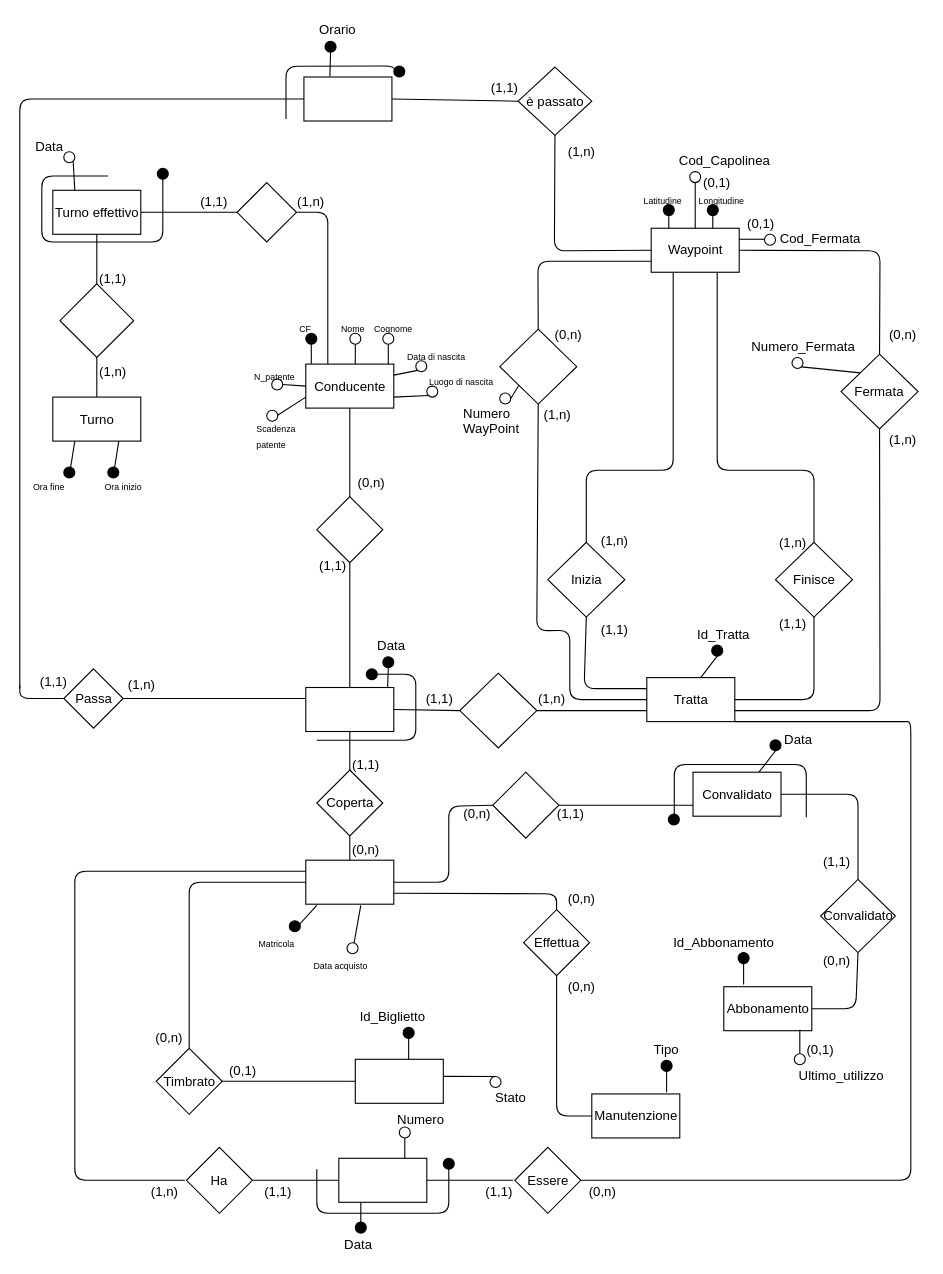
The diagram is 943 pixels wide and 1274 high, and some of its shapes have lost their labels. The box of each missing label's shape, as (x1, y1, x2, y2) in pixels:
Biglietto: (354, 1058, 443, 1103)
Composto: (59, 283, 134, 358)
In programma: (338, 1157, 427, 1202)
Lavora: (236, 182, 296, 242)
Occorrenza: (459, 672, 537, 748)
Occupato: (316, 496, 383, 563)
Passato: (303, 76, 392, 121)
Presente: (499, 328, 577, 404)
Sopra: (492, 771, 559, 838)
Tratta effettiva: (305, 686, 394, 732)
Veicolo: (305, 859, 394, 904)
